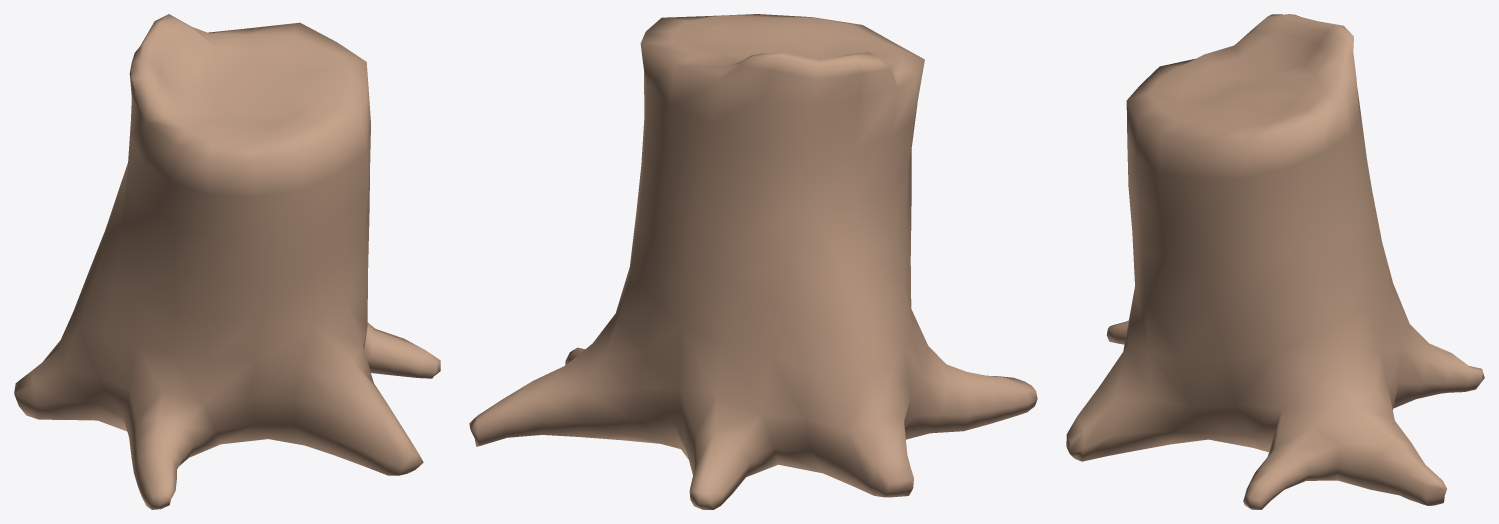
File: TreeStump.fbx
3 renders of one model, left to right at view 1: azimuth 30°, elevation 25°; view 2: azimuth 150°, elevation 25°; view 3: azimuth 270°, elevation 25°, orthographic. The views are drawn at different scales.
Parts seen in each view (by area): view 1: treeStump; view 2: treeStump; view 3: treeStump.
Boxes of the visible parts, x1,y1,x2,y2 form: treeStump: (14,14,440,509); treeStump: (469,14,1037,509); treeStump: (1066,14,1484,509).
Size of the model in its own units: 159 by 158 by 158.
